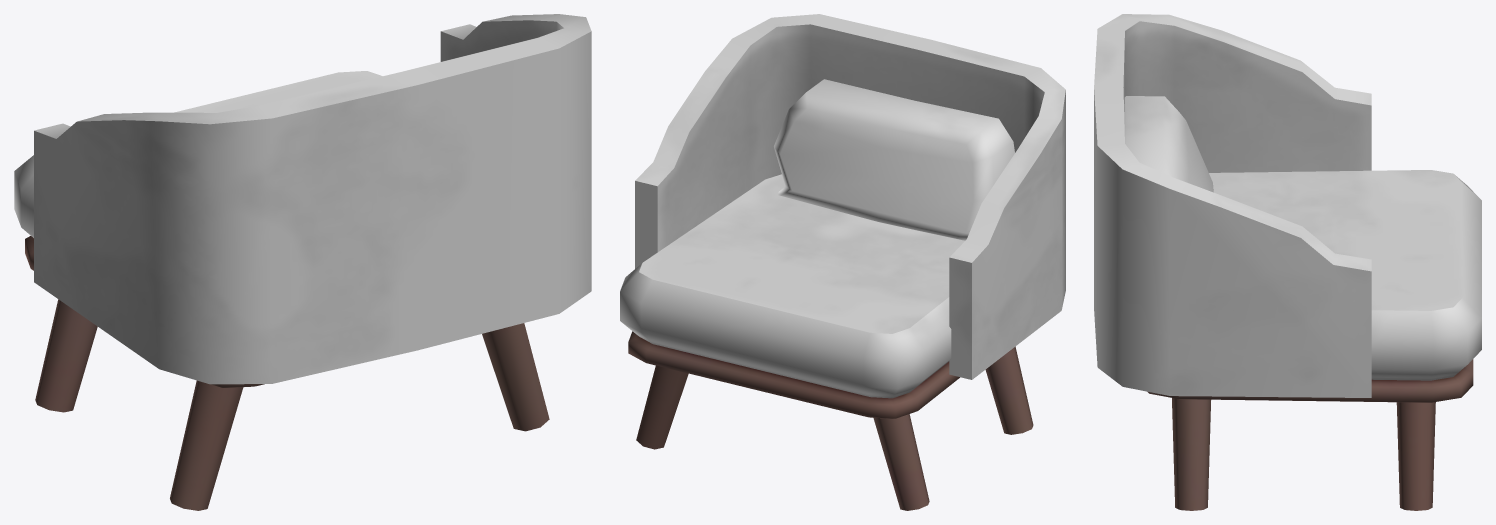
The model's file is Pfb_Chair__12.fbx.
The picture shows the model from 3 angles, left to right: view 1: azimuth 30°, elevation 25°; view 2: azimuth 150°, elevation 25°; view 3: azimuth 270°, elevation 25°; orthographic projection. The views are drawn at different scales.
Parts seen in each view (by area): view 1: Mat_Chair_03Green_M; view 2: Mat_Chair_03Green_M; view 3: Mat_Chair_03Green_M.
Part boxes in pixels (<box>): Mat_Chair_03Green_M: <box>14,14,591,510</box>; Mat_Chair_03Green_M: <box>620,14,1065,510</box>; Mat_Chair_03Green_M: <box>1094,14,1481,510</box>.
Size of the model in its own units: 0.8551 by 0.7947 by 0.7884.
Materials: 1 (1 with a texture image).
